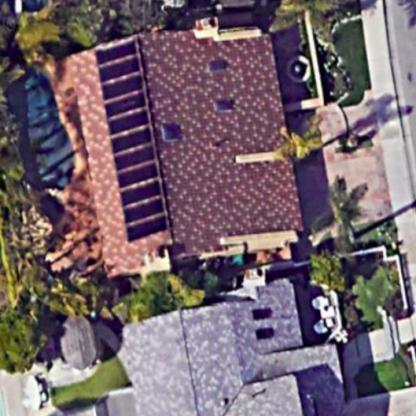solar_panel: (91, 37, 179, 241)
swimming_pool: (2, 60, 79, 201)
